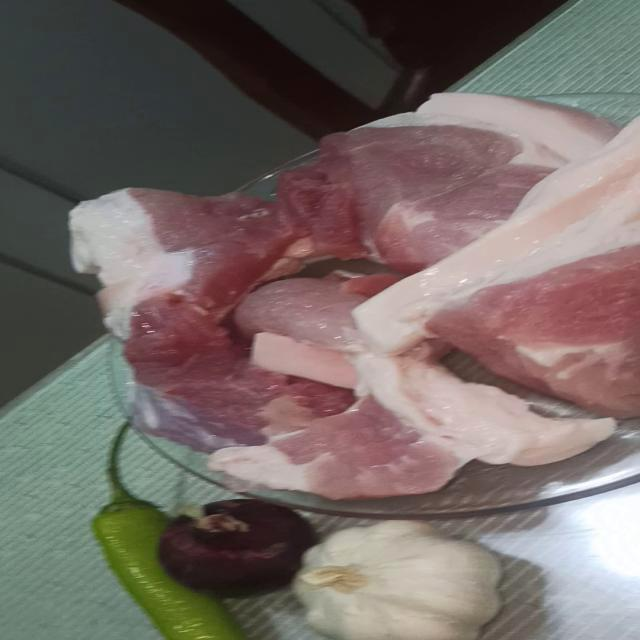chili_pepper: (71, 465, 234, 640)
garlic: (264, 530, 504, 640)
onion: (157, 493, 314, 602)
pork: (370, 139, 640, 404), (249, 78, 578, 262), (80, 323, 439, 477), (216, 358, 551, 520), (48, 184, 350, 314)
